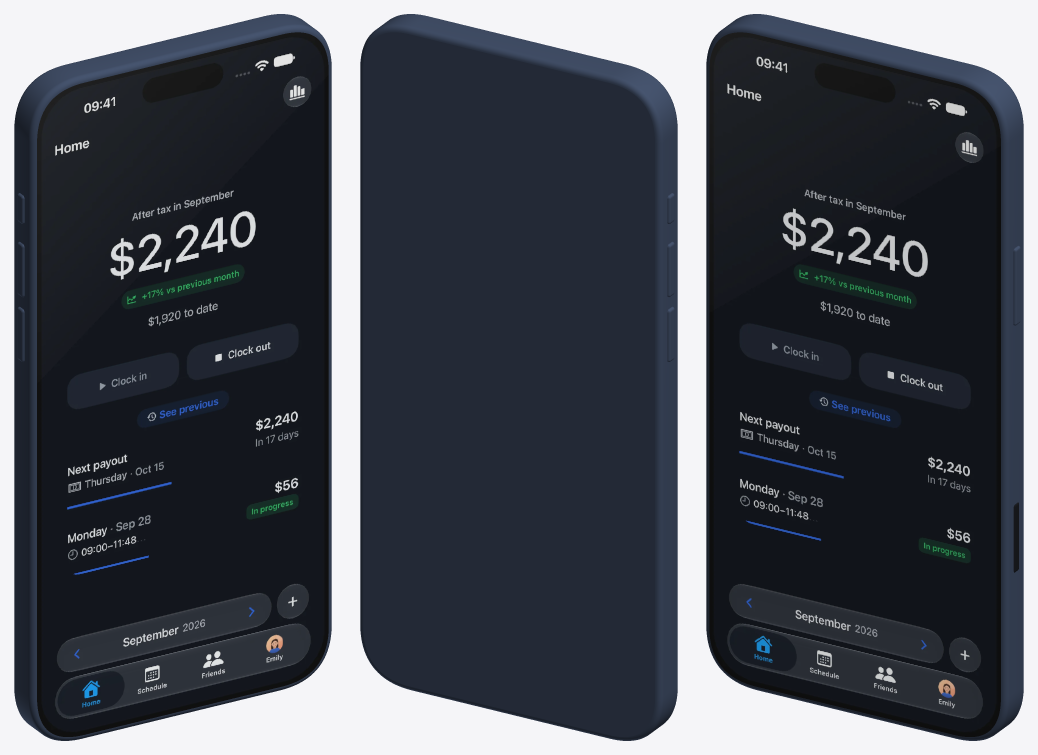
The model's file is phone.glb.
3 renders of one model, left to right at view 1: azimuth 30°, elevation 25°; view 2: azimuth 150°, elevation 25°; view 3: azimuth 330°, elevation 25°, orthographic.
Parts seen in each view (by area): view 1: phone glass, phone frame; view 2: phone frame; view 3: phone glass, phone frame, phone button.003.
Boxes of the visible parts, bbox=[...] form: phone glass: bbox=[37, 32, 328, 736]; phone frame: bbox=[14, 14, 331, 740]; phone frame: bbox=[360, 14, 677, 740]; phone glass: bbox=[709, 32, 1000, 736]; phone frame: bbox=[706, 14, 1023, 740]; phone button.003: bbox=[1013, 246, 1020, 325].
Bounding box in the file's own units: 0.0792 × 0.1634 × 0.0088.
3 materials, 1 textured.
